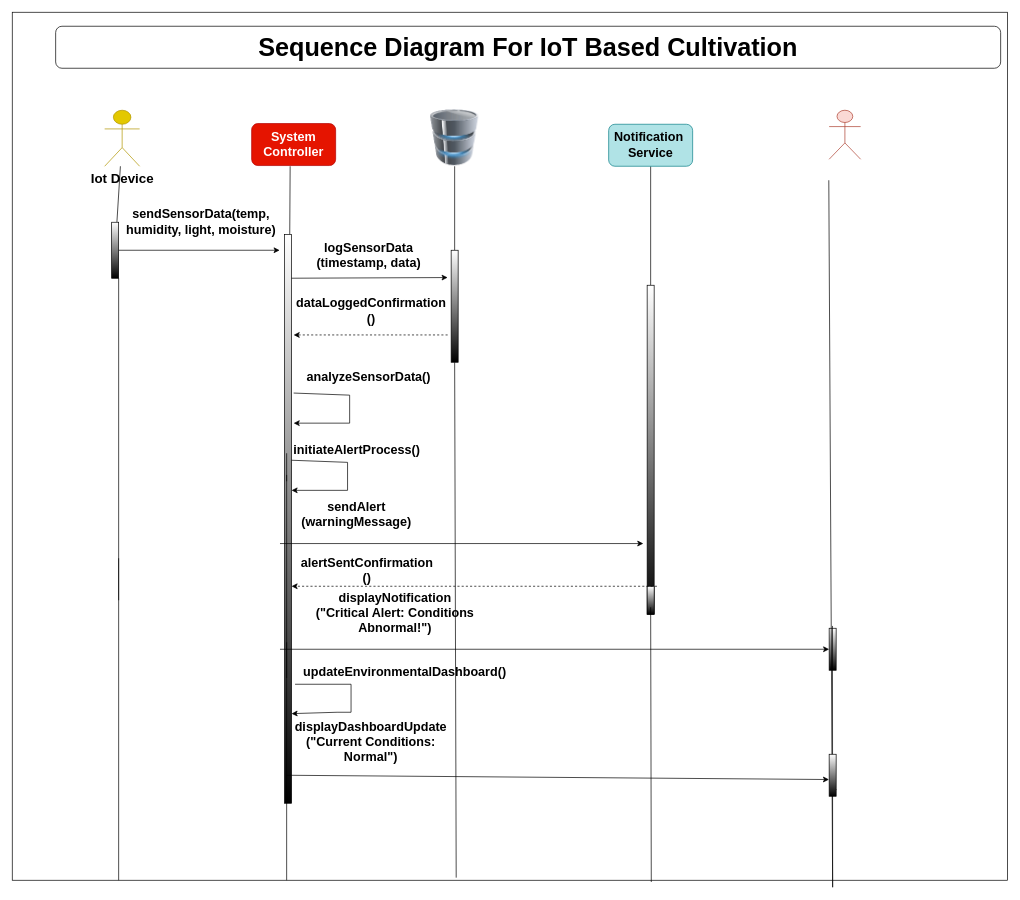
Image size: 1020x900. Some labels were removed from this diagram. The centre of each missing label's shape, as x and y in pixels:
Local Database: the point at 454,137
User: the point at 844,134
